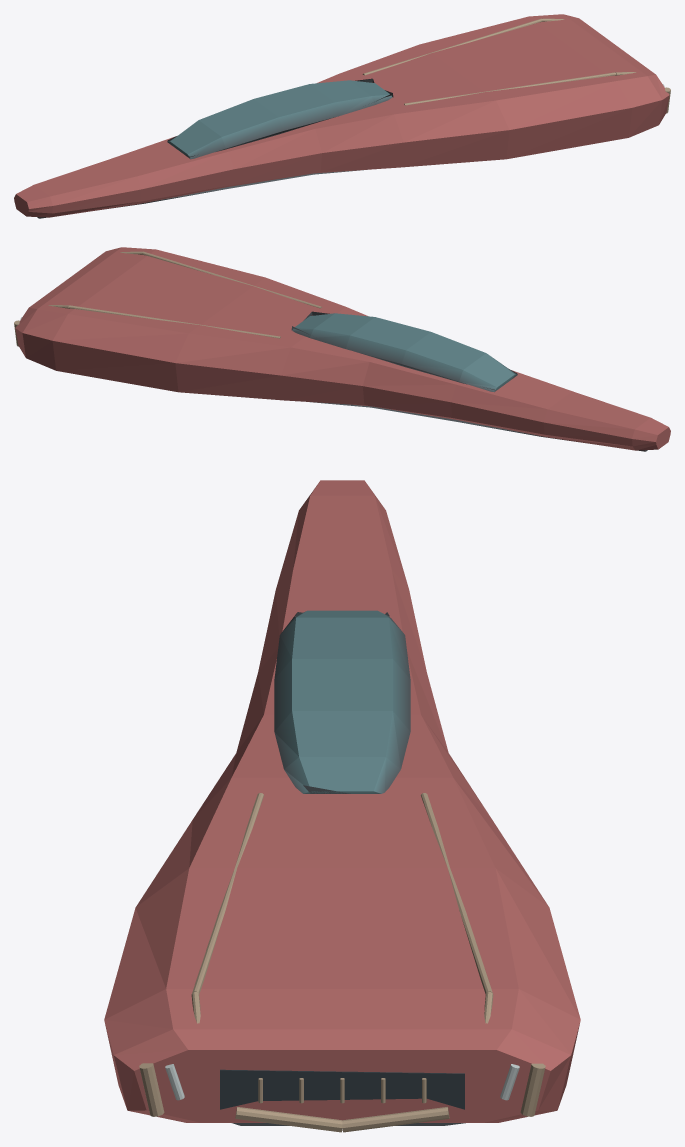
Rendered from jetjet_red_parked.glb.
3 renders of one model, top to bottom at view 1: azimuth 30°, elevation 25°; view 2: azimuth 150°, elevation 25°; view 3: azimuth 270°, elevation 25°, orthographic. The views are drawn at different scales.
Visible parts, largest first — view 1: hull_0, cockpit_frame_2, bonnet_edge_3, lower_keel_1; view 2: hull_0, cockpit_frame_2, bonnet_edge_3, lower_keel_1; view 3: hull_0, cockpit_frame_2, front_grille_7, bonnet_edge_3, front_chevron_6, front_corner_4.
Boxes of the visible parts, x1,y1,x2,y2 form: hull_0: [14, 14, 669, 217]; cockpit_frame_2: [167, 78, 393, 159]; bonnet_edge_3: [362, 18, 636, 105]; lower_keel_1: [37, 169, 367, 218]; hull_0: [15, 247, 670, 450]; cockpit_frame_2: [291, 311, 517, 392]; bonnet_edge_3: [48, 251, 322, 338]; lower_keel_1: [310, 402, 647, 451]; hull_0: [104, 480, 580, 1122]; cockpit_frame_2: [274, 610, 410, 793]; front_grille_7: [220, 1069, 464, 1109]; bonnet_edge_3: [191, 793, 493, 1023]; front_chevron_6: [235, 1107, 449, 1132]; front_corner_4: [139, 1063, 545, 1116].
Bounding box in the file's own units: 10.17 × 1.23 × 3.5.
